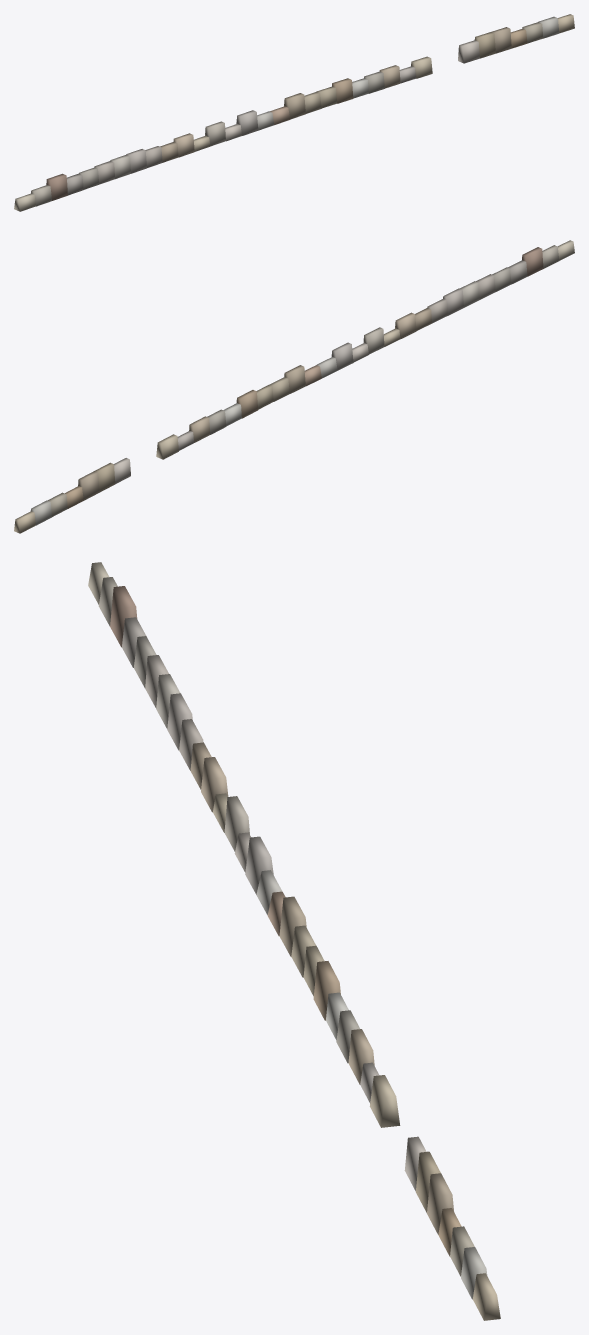
File: farm_-26_-31_collision.glb
The picture shows the model from 3 angles, top to bottom: view 1: azimuth 30°, elevation 25°; view 2: azimuth 210°, elevation 25°; view 3: azimuth 270°, elevation 25°; orthographic projection. The views are drawn at different scales.
Parts seen in each view (by area): view 1: geometry_0; view 2: geometry_0; view 3: geometry_0.
Boxes of the visible parts, box(x1,y1,x2,y2) form: geometry_0: box(14, 14, 574, 211); geometry_0: box(14, 240, 574, 533); geometry_0: box(88, 562, 500, 1320).
Bounding box in the file's own units: 54.19 × 5.21 × 14.77.
